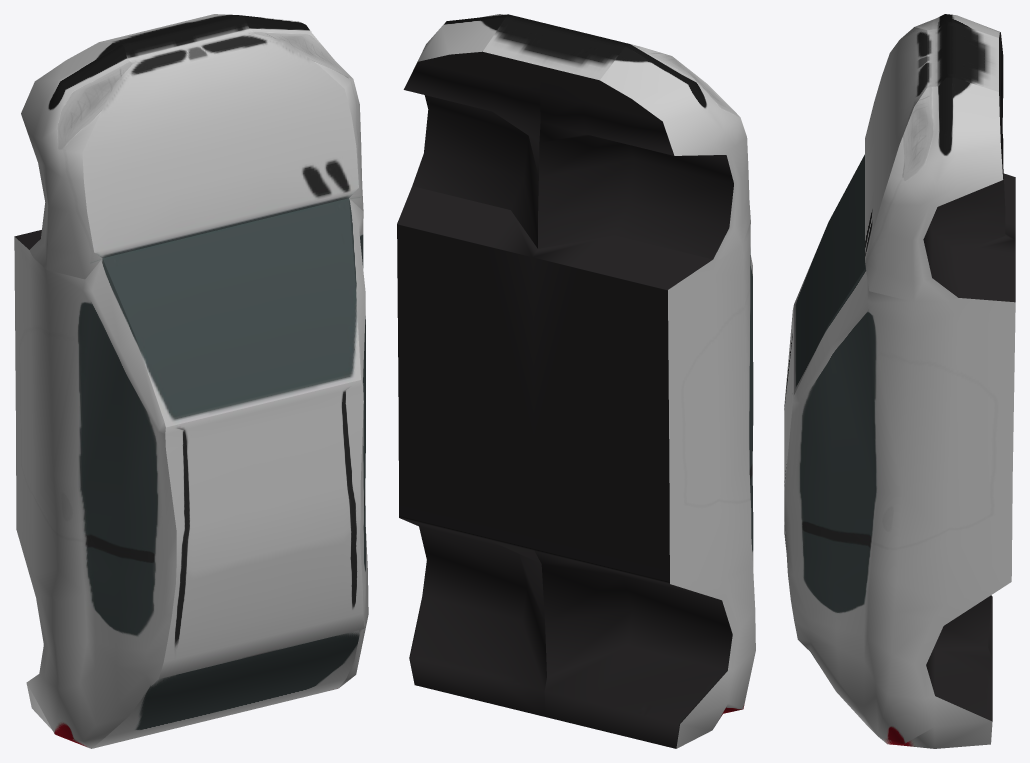
The model's file is berline-nuit.glb.
The picture shows the model from 3 angles, left to right: view 1: azimuth 30°, elevation 25°; view 2: azimuth 150°, elevation 25°; view 3: azimuth 270°, elevation 25°; orthographic projection. The views are drawn at different scales.
Visible parts, largest first — view 1: Object_3; view 2: Object_3; view 3: Object_3.
Boxes of the visible parts, bbox=[...] form: Object_3: bbox=[14, 14, 368, 748]; Object_3: bbox=[397, 14, 755, 748]; Object_3: bbox=[784, 14, 1015, 748].
Bounding box in the file's own units: 2.36 × 4.81 × 1.58.
Materials: 1 (1 with a texture image).
